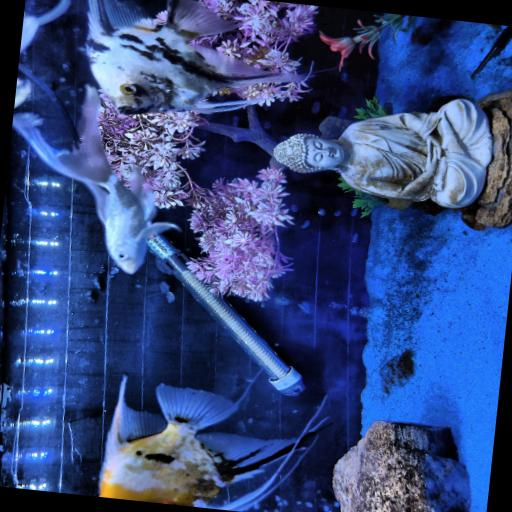Fish: (12, 85, 180, 272), (100, 377, 320, 511), (86, 0, 308, 113), (20, 16, 39, 49)
